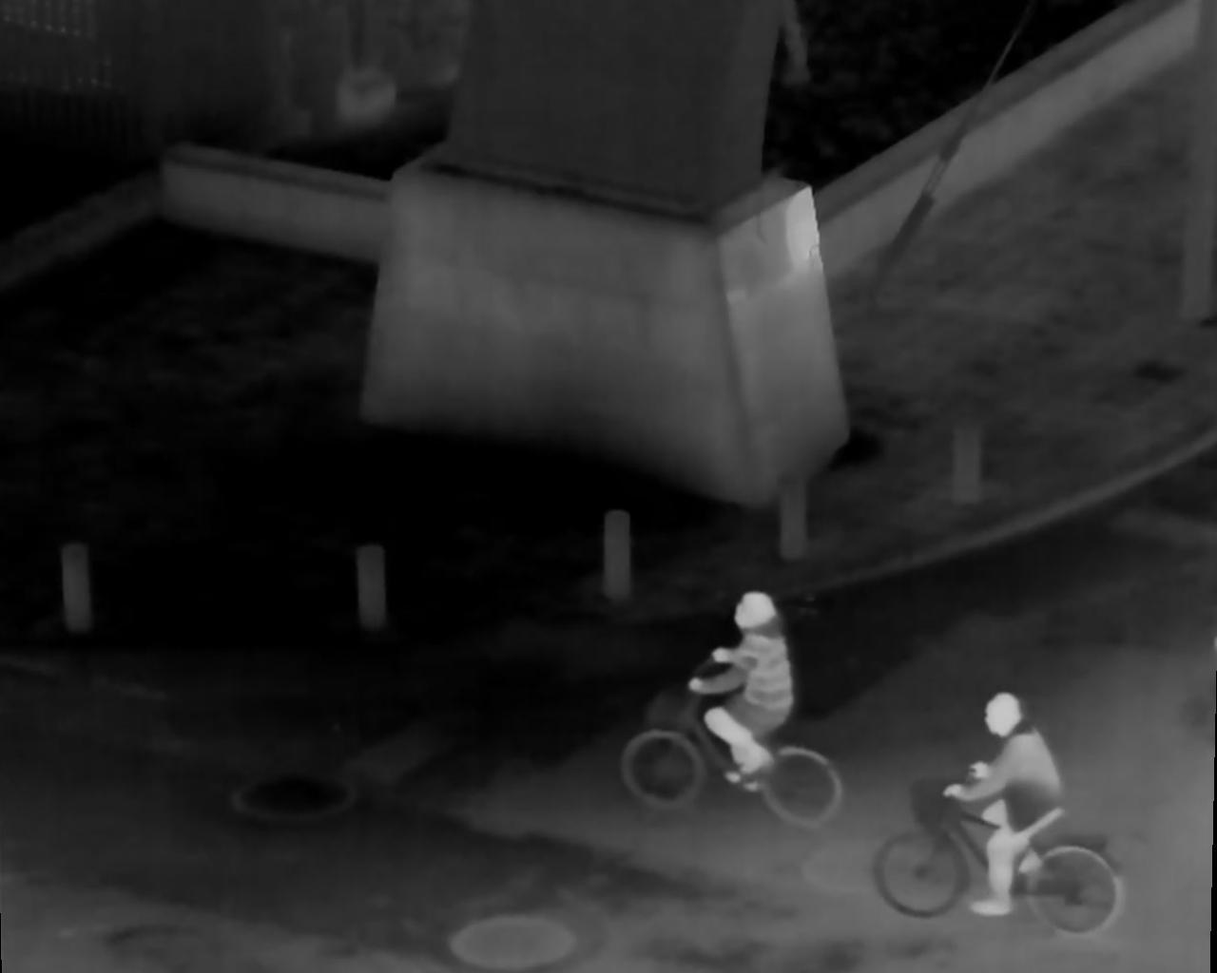person: (956, 691, 1065, 930), (714, 586, 797, 784)
